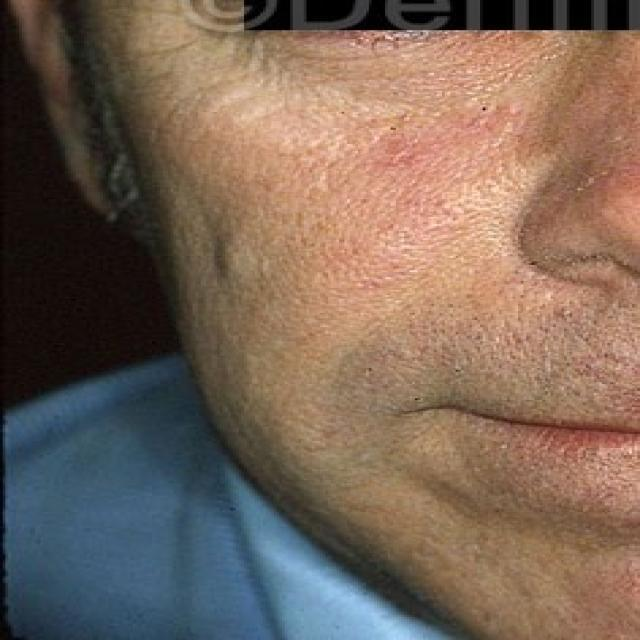Rosacea: (315, 90, 519, 242)
